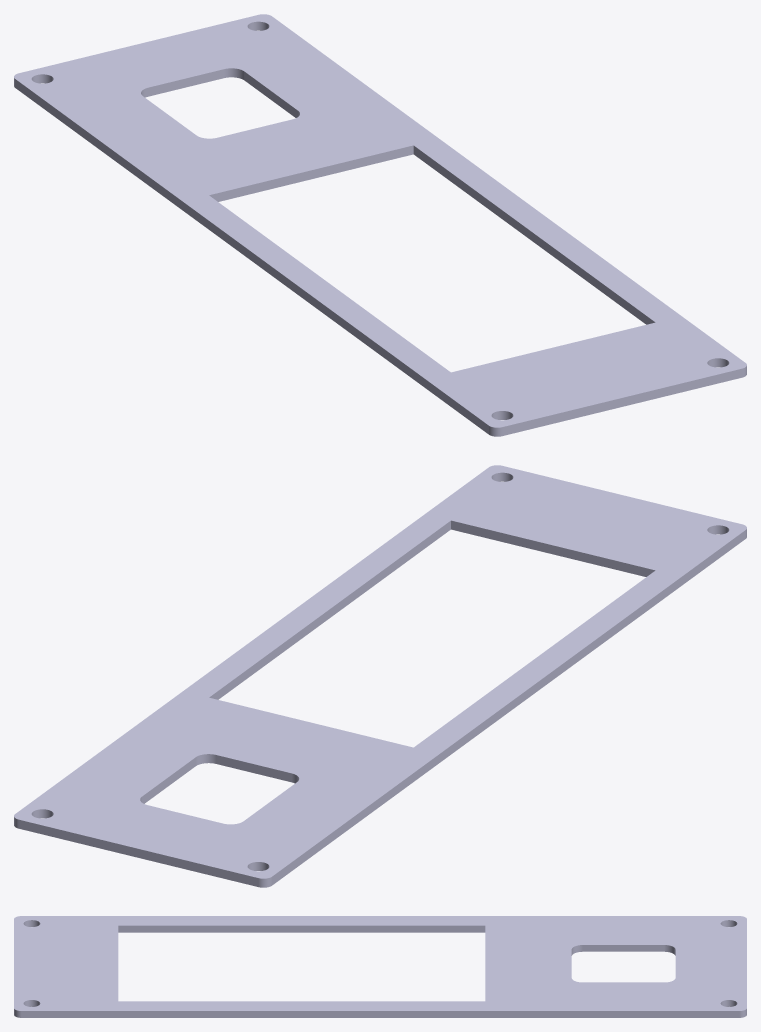
The model's file is Keyboard-SideCoverPad.gltf.
3 views of the same model, one above another, from view 1: azimuth 30°, elevation 25°; view 2: azimuth 150°, elevation 25°; view 3: azimuth 270°, elevation 25° (orthographic). The views are drawn at different scales.
Parts seen in each view (by area): view 1: SideCover; view 2: SideCover; view 3: SideCover.
Boxes of the visible parts, x1=… form: SideCover: x1=14, y1=14, x2=746, y2=436; SideCover: x1=14, y1=465, x2=746, y2=887; SideCover: x1=14, y1=916, x2=746, y2=1017.
Size of the model in its own units: 0.0298 by 0.001 by 0.097.
